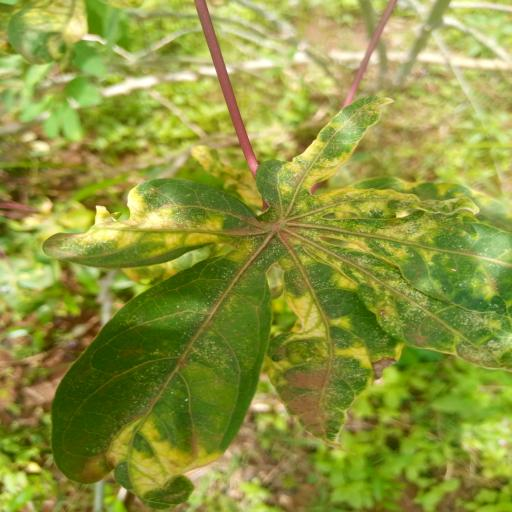Cassava_Mosaic: (46, 98, 512, 510)
